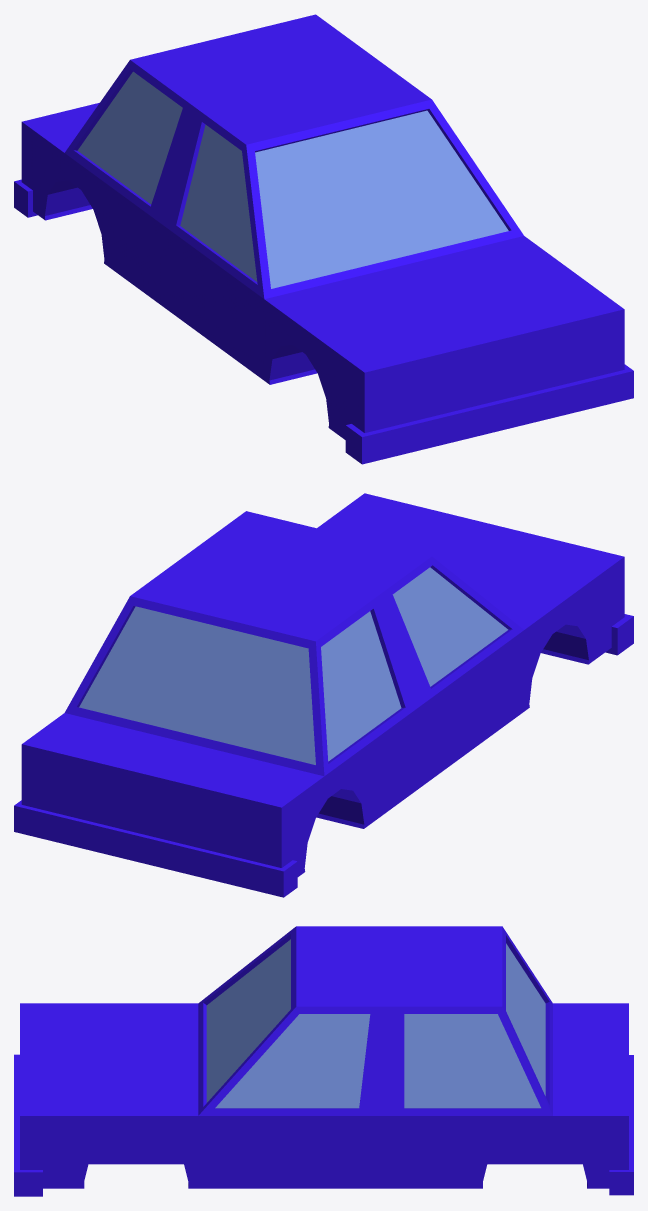
File: body_blue.gltf
The picture shows the model from 3 angles, top to bottom: view 1: azimuth 30°, elevation 25°; view 2: azimuth 150°, elevation 25°; view 3: azimuth 270°, elevation 25°; orthographic projection. The views are drawn at different scales.
Visible parts, largest first — view 1: Body; view 2: Body; view 3: Body.
Boxes of the visible parts, x1=… form: Body: x1=14, y1=14, x2=633, y2=464; Body: x1=14, y1=493, x2=633, y2=897; Body: x1=14, y1=926, x2=633, y2=1196.
Size of what is drawn, in the model's own units: 2.09 by 1.42 by 4.65.
